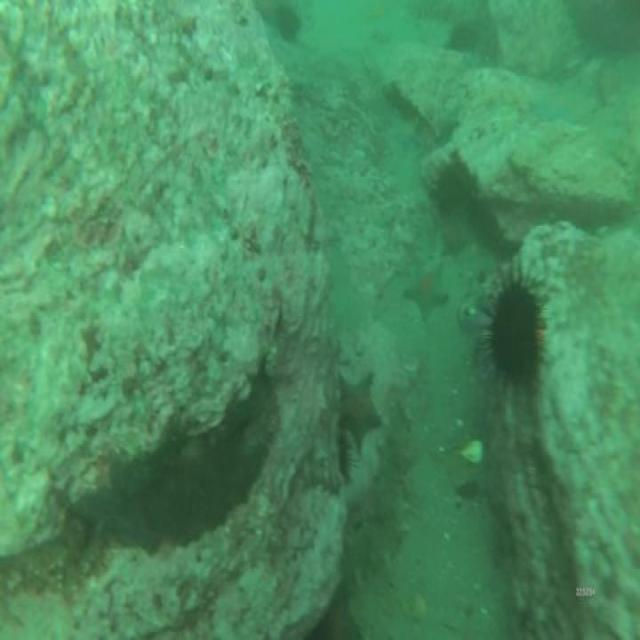echinus: (493, 275, 543, 389), (452, 21, 482, 54), (276, 5, 302, 41)
holothurian: (378, 406, 412, 531), (339, 522, 399, 586)
starfish: (339, 371, 384, 446), (406, 255, 450, 318)
